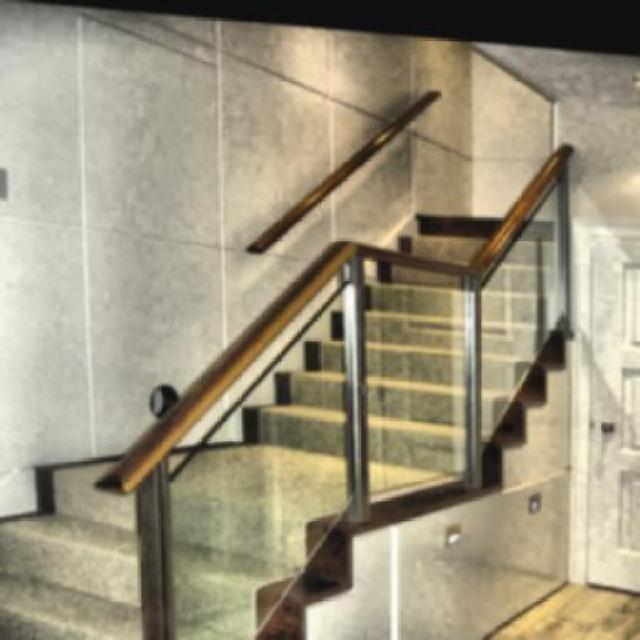stair: (56, 152, 556, 638)
